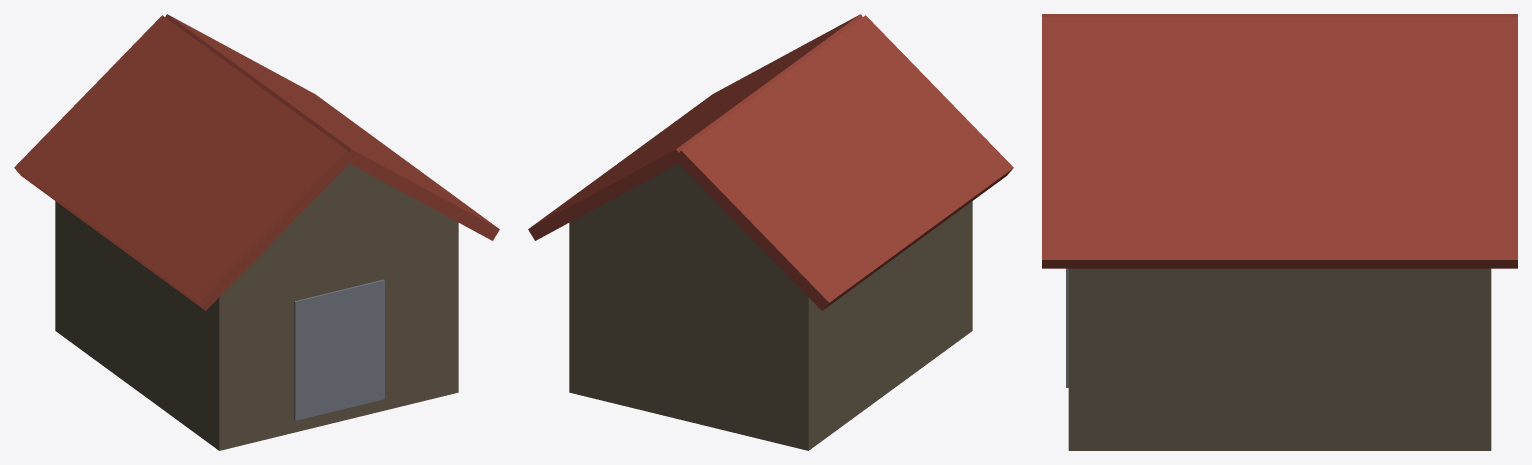
File: scatter-single1.fbx
The picture shows the model from 3 angles, left to right: view 1: azimuth 30°, elevation 25°; view 2: azimuth 150°, elevation 25°; view 3: azimuth 270°, elevation 25°; orthographic projection. The views are drawn at different scales.
Parts seen in each view (by area): view 1: a2000/0/scatter-single1; view 2: a2000/0/scatter-single1; view 3: a2000/0/scatter-single1.
Part boxes in pixels (x1,y1,x2,y2): a2000/0/scatter-single1: [14, 14, 499, 450]; a2000/0/scatter-single1: [528, 14, 1013, 450]; a2000/0/scatter-single1: [1042, 14, 1517, 450].
Bounding box in the file's own units: 1.01 × 0.894 × 1.07.
